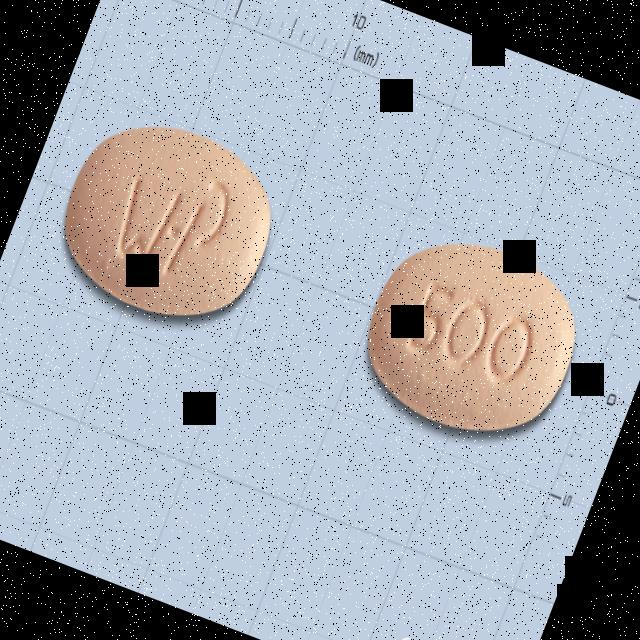Highloxin: (41, 98, 296, 344), (344, 213, 600, 458)
